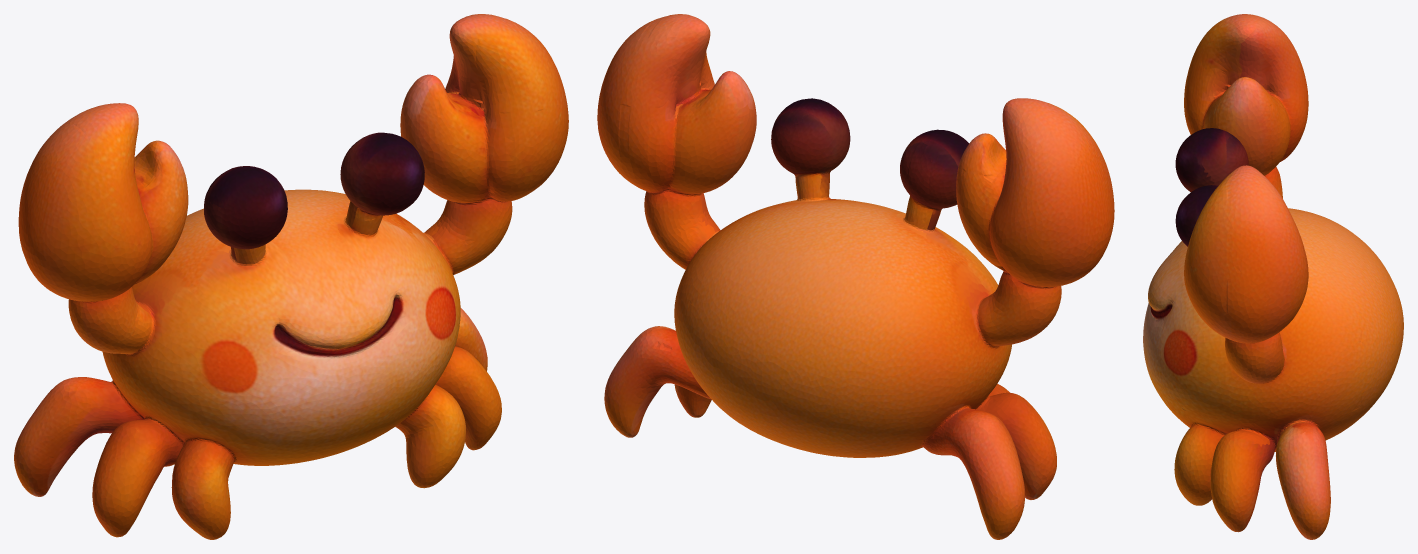
The picture shows the model from 3 angles, left to right: view 1: azimuth 30°, elevation 25°; view 2: azimuth 150°, elevation 25°; view 3: azimuth 270°, elevation 25°; orthographic projection. The views are drawn at different scales.
Parts seen in each view (by area): view 1: tmp7iyupy73.ply; view 2: tmp7iyupy73.ply; view 3: tmp7iyupy73.ply.
Part boxes in pixels (x1,y1,x2,y2): tmp7iyupy73.ply: (14, 14, 568, 539); tmp7iyupy73.ply: (597, 14, 1114, 539); tmp7iyupy73.ply: (1143, 14, 1403, 539).
Bounding box in the file's own units: 1.99 × 1.54 × 0.9899.
1 material, 1 textured.
